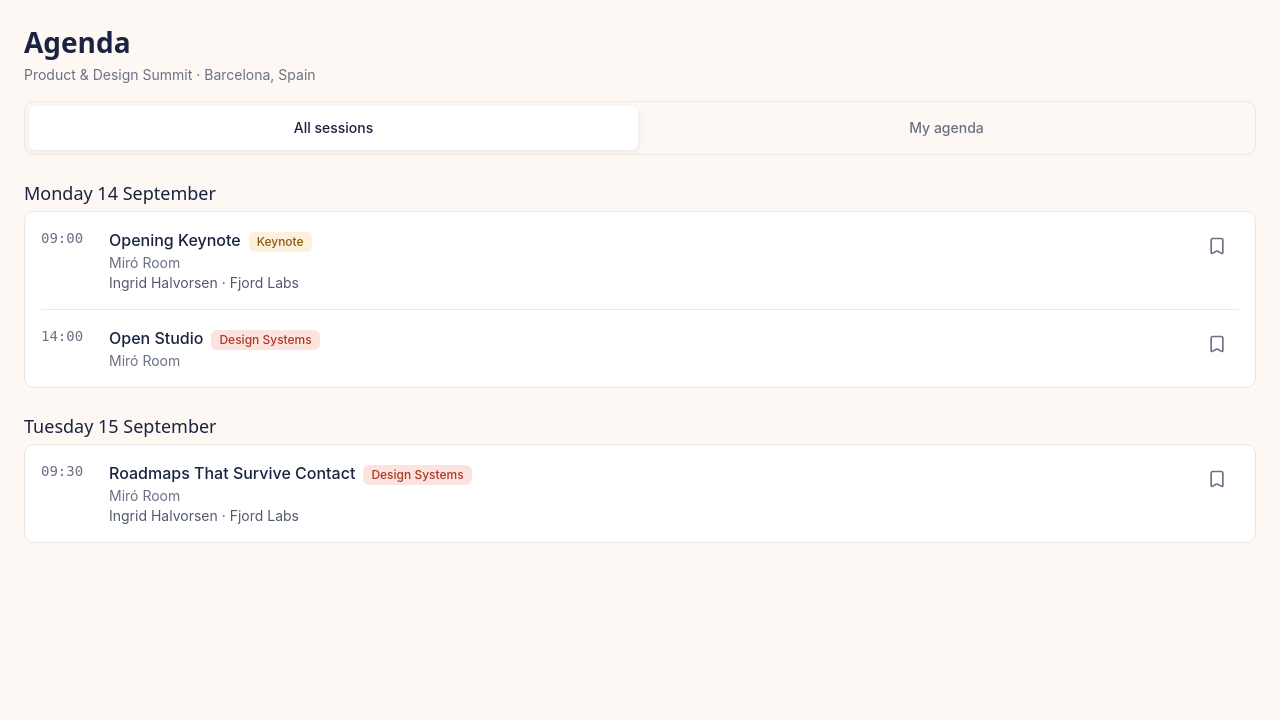
Test: question refusals › renders the throttle with its own wait, not a generic failure (FR-746)
Click the link "Opening Keynote" at (175, 240), box x1=109 y1=230 x2=241 y2=250
(page scrolled)
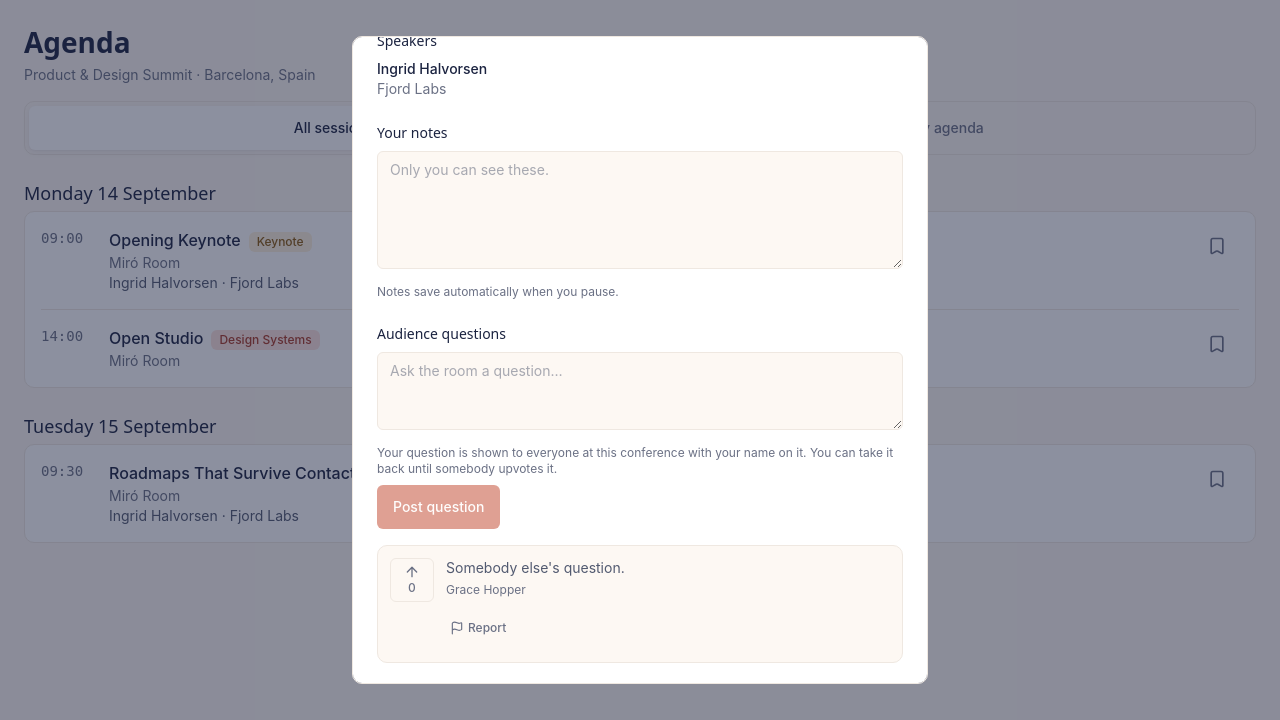
Click the button named "upvote" at (412, 580), box x1=390 y1=558 x2=434 y2=602
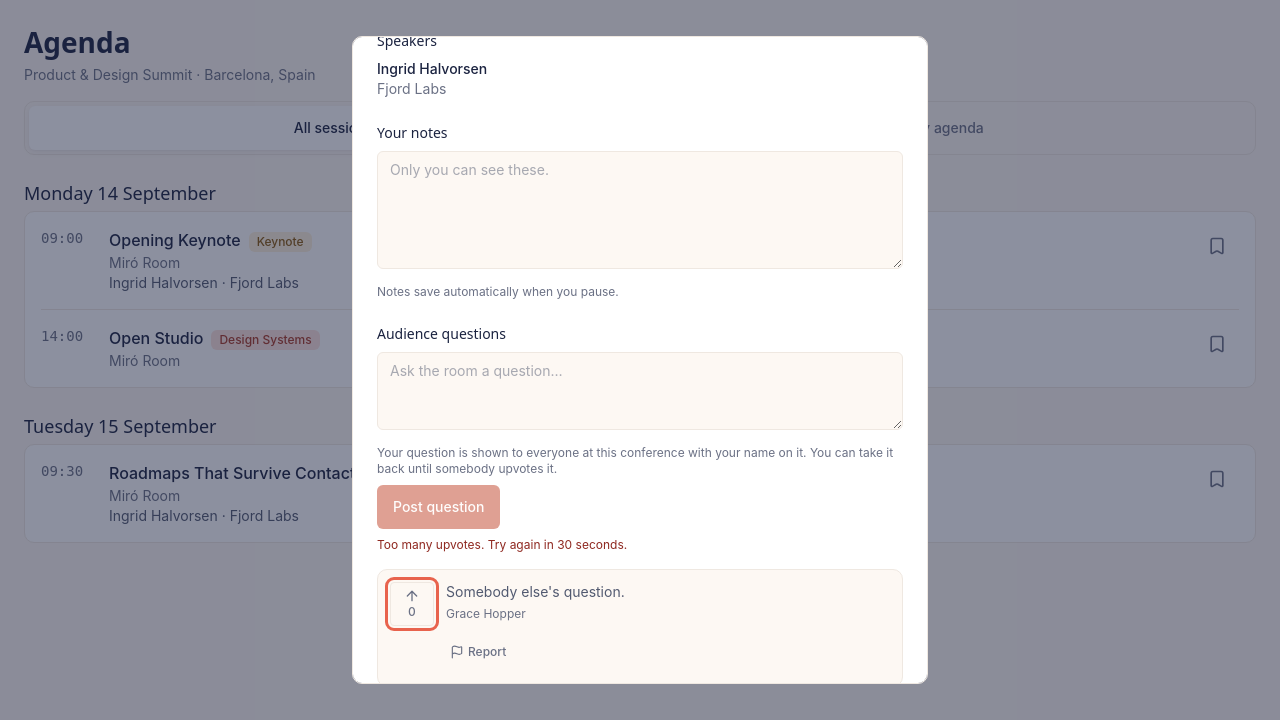
Result: the message "Too many upvotes. Try again in 30 seconds." is shown at x1=377 y1=537 x2=627 y2=552
